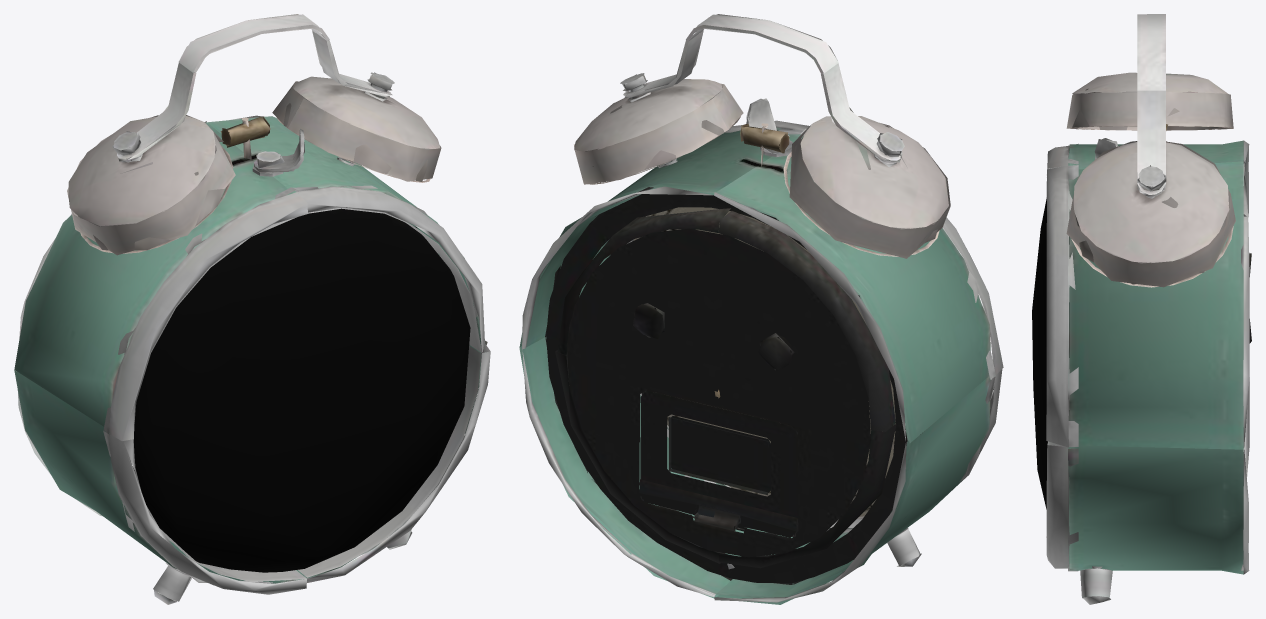
File: alarm_clock_01.glb
3 views of the same model, side by side, from view 1: azimuth 30°, elevation 25°; view 2: azimuth 150°, elevation 25°; view 3: azimuth 270°, elevation 25° (orthographic). The views are drawn at different scales.
Visible parts, largest first — view 1: alarm_clock_01; view 2: alarm_clock_01; view 3: alarm_clock_01.
Part boxes in pixels (<box>): alarm_clock_01: <box>14,14,490,604</box>; alarm_clock_01: <box>519,14,1003,604</box>; alarm_clock_01: <box>1032,14,1251,604</box>.
Bounding box in the file's own units: 0.1322 × 0.1746 × 0.0667.
Materials: 2 (2 with a texture image).
